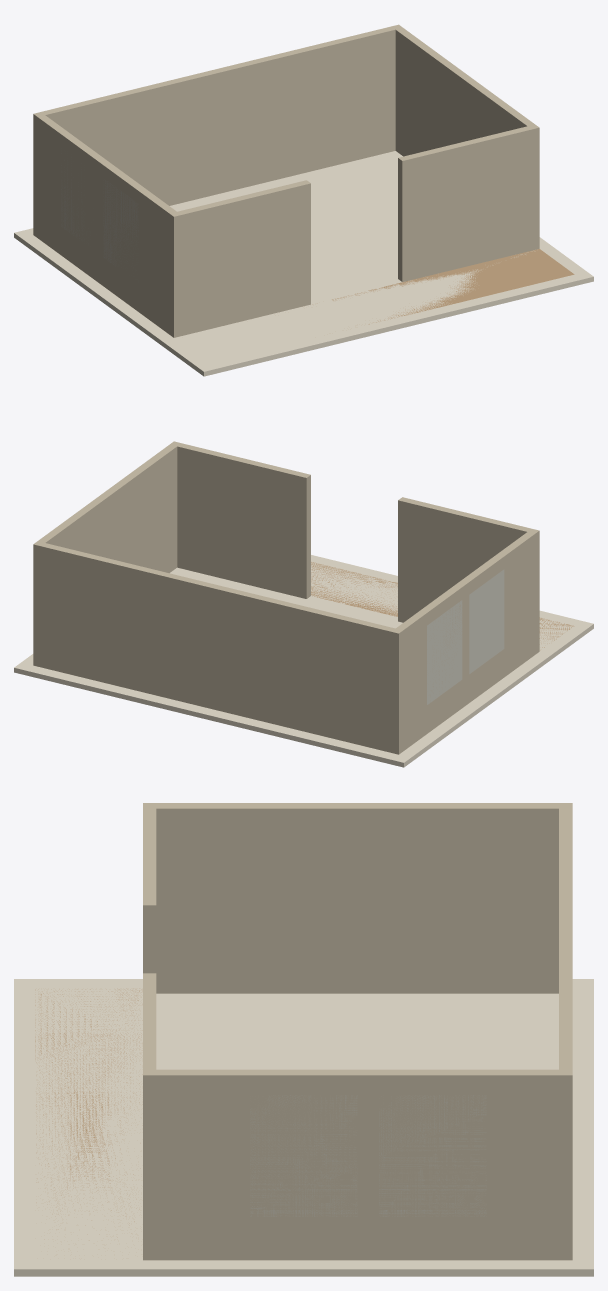
The model's file is community-hub.glb.
The picture shows the model from 3 angles, top to bottom: view 1: azimuth 30°, elevation 25°; view 2: azimuth 150°, elevation 25°; view 3: azimuth 270°, elevation 25°; orthographic projection. The views are drawn at different scales.
Visible parts, largest first — view 1: board and batten, stone, timber; view 2: board and batten, stone, glass, timber; view 3: board and batten, stone, timber.
Part boxes in pixels (box(x1,y1,x2,y2)): board and batten: box(33, 24, 539, 337); stone: box(14, 151, 593, 376); timber: box(304, 249, 574, 324); board and batten: box(33, 441, 539, 754); stone: box(14, 555, 593, 767); glass: box(427, 570, 503, 704); timber: box(311, 562, 574, 650); board and batten: box(143, 803, 572, 1260); stone: box(14, 979, 593, 1276); timber: box(35, 988, 142, 1240).
Bounding box in the file's own units: 12.8 × 5.55 × 10.8.
